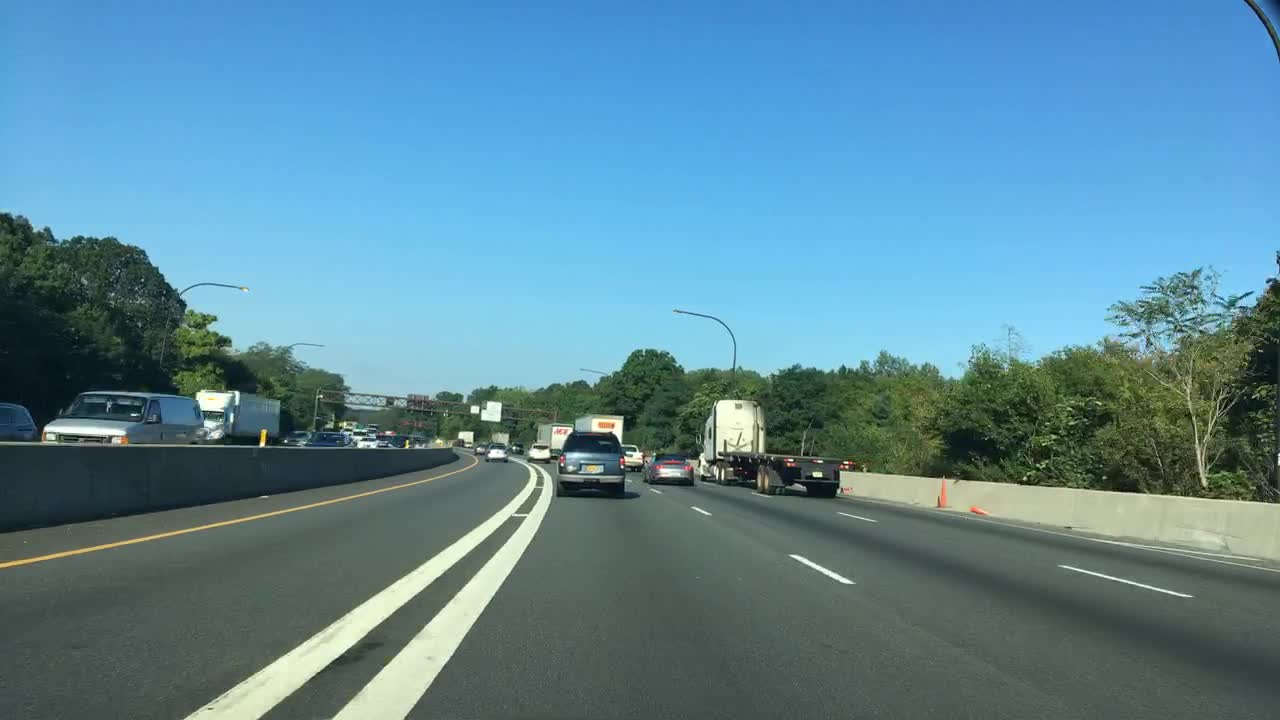car: (40, 389, 206, 446), (551, 426, 626, 499), (640, 449, 694, 489), (0, 401, 41, 444), (305, 428, 353, 448), (620, 441, 645, 474), (526, 440, 553, 465), (484, 443, 511, 465), (283, 429, 313, 447), (391, 432, 413, 447), (410, 433, 429, 449), (353, 436, 376, 448), (510, 440, 526, 456), (373, 431, 392, 443), (473, 442, 488, 457), (334, 422, 353, 432), (365, 420, 379, 433), (450, 437, 465, 449), (349, 428, 365, 439), (461, 440, 475, 450)
traffic sign: (477, 398, 503, 424), (406, 392, 430, 413), (467, 404, 480, 414)
truck: (694, 395, 844, 499), (194, 386, 283, 446), (572, 413, 623, 448), (535, 421, 575, 457), (488, 431, 510, 449), (456, 427, 475, 445)
